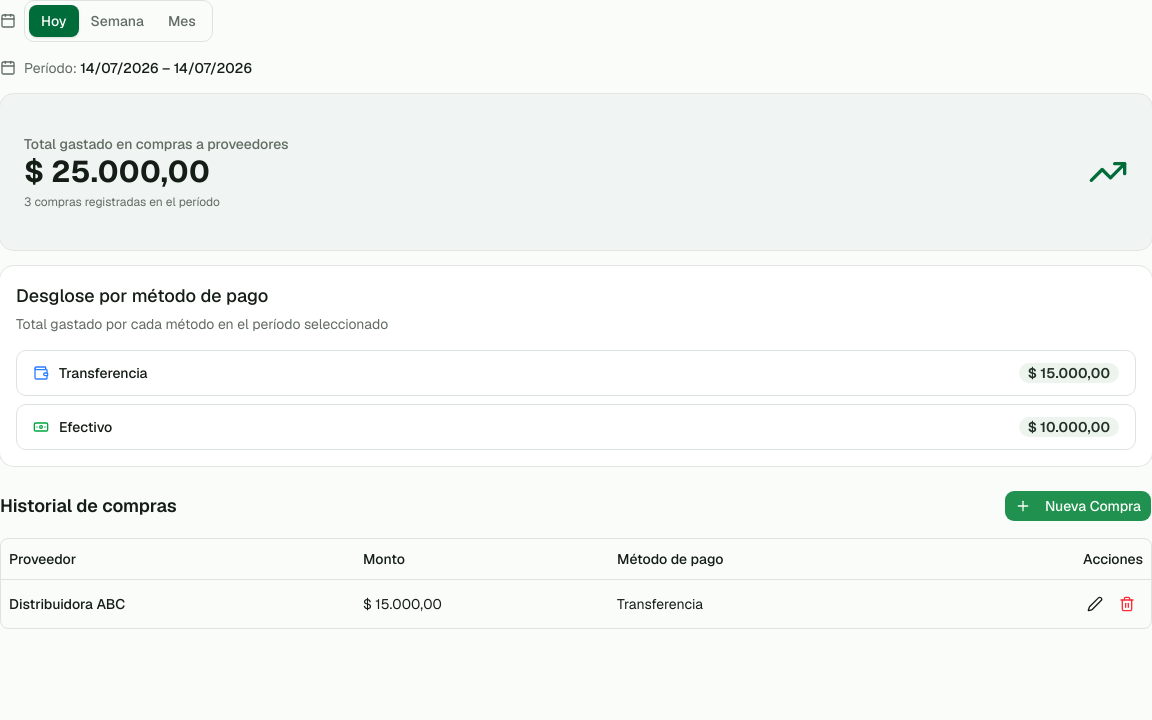
Test: ProviderPurchasesShell › opens edit dialog pre-filled with existing data
Check: the text "Distribuidora ABC" is shown, box [1,579,355,628]
Click edit button
Click the 1st button named "editar". click: (1095, 604)
box: [1079,588,1111,620]
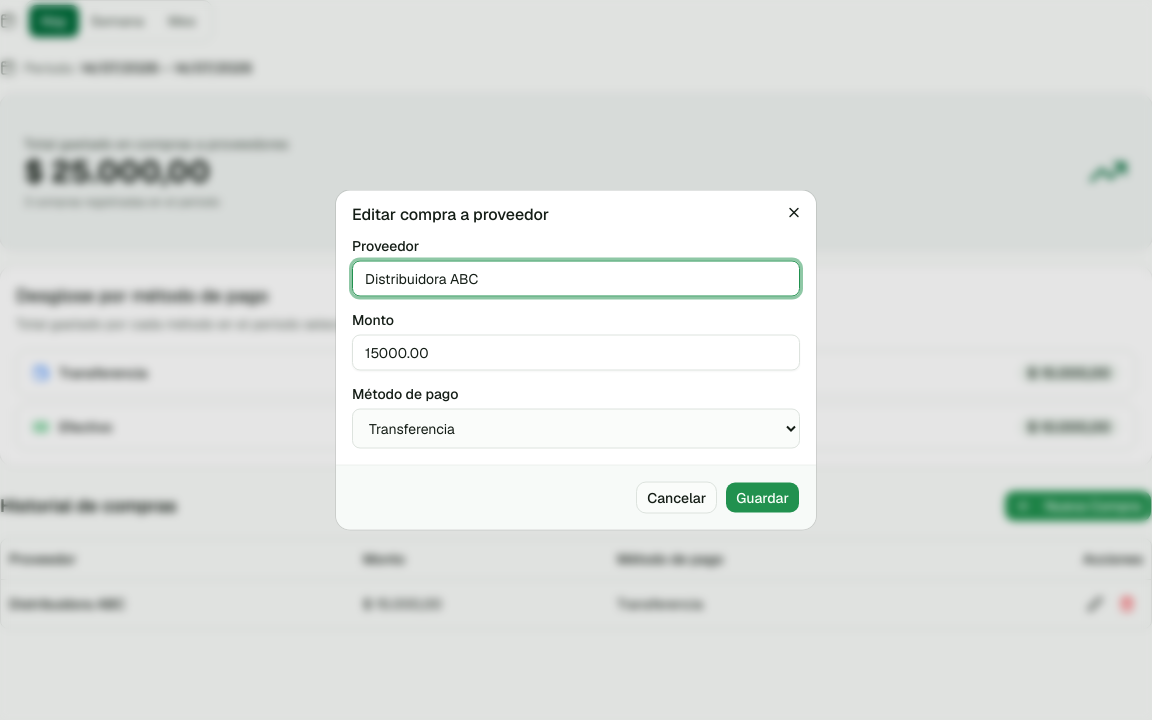
Check: the field showing "Distribuidora ABC" is shown, box [352,260,800,296]
